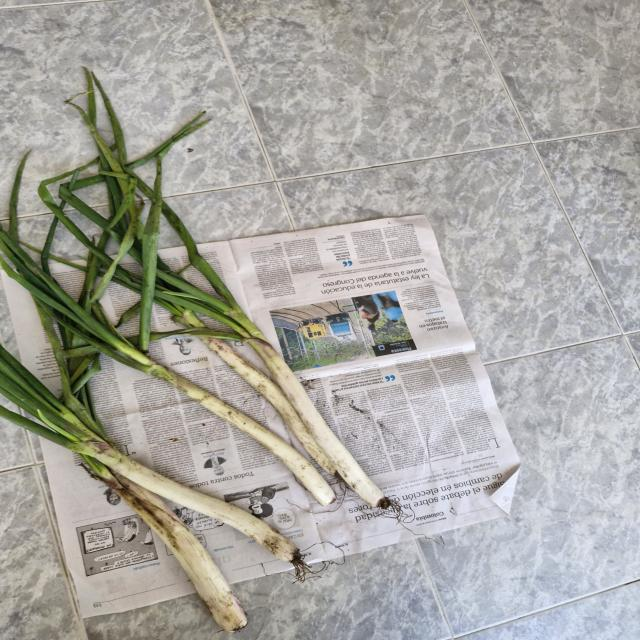green_onion: (0, 228, 340, 514), (0, 338, 308, 566), (177, 287, 375, 510)
